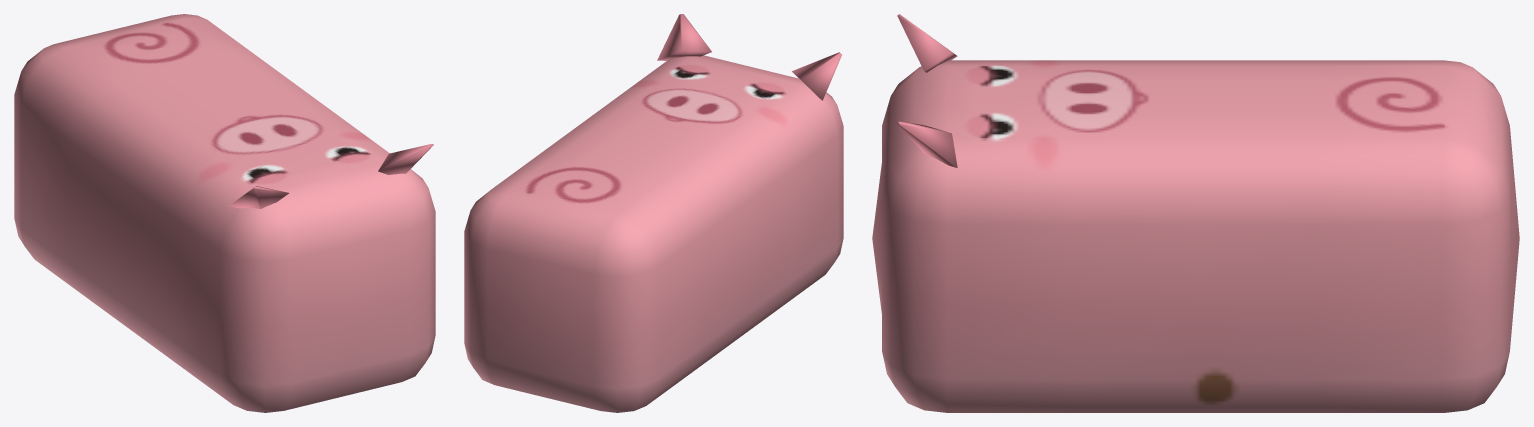
The model's file is Pig_2x1.fbx.
3 views of the same model, side by side, from view 1: azimuth 30°, elevation 25°; view 2: azimuth 150°, elevation 25°; view 3: azimuth 270°, elevation 25° (orthographic). The views are drawn at different scales.
Visible parts, largest first — view 1: Pig_2x1; view 2: Pig_2x1; view 3: Pig_2x1.
Boxes of the visible parts, x1,y1,x2,y2 form: Pig_2x1: [14, 14, 435, 412]; Pig_2x1: [464, 14, 843, 412]; Pig_2x1: [872, 14, 1519, 412].
Bounding box in the file's own units: 0.98 × 0.9771 × 1.98.
Materials: 1 (1 with a texture image).
